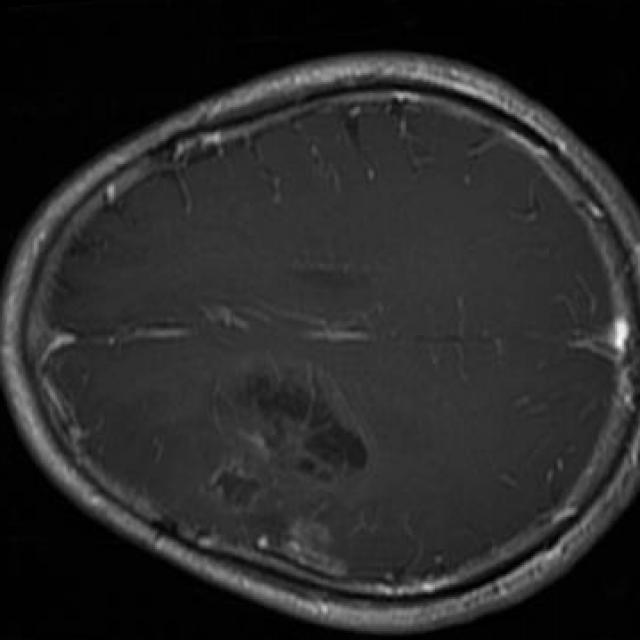glioma: (209, 355, 365, 574)
